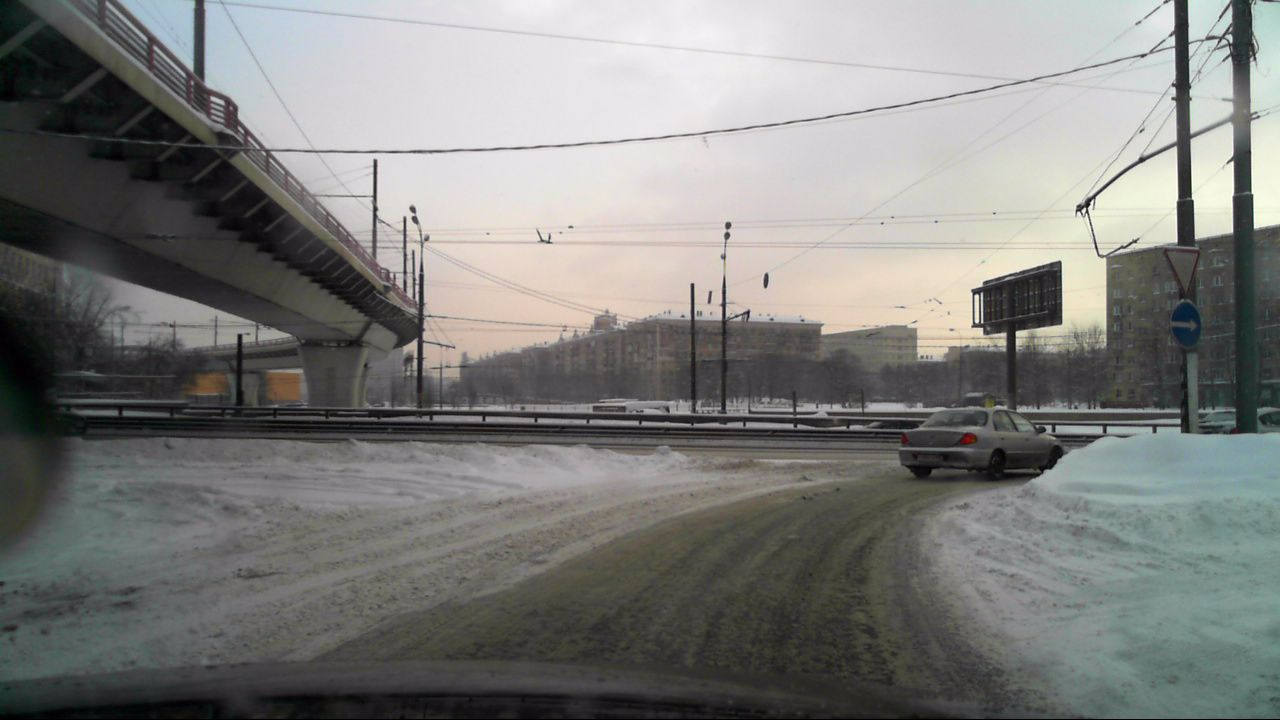Turn Right: (1171, 299, 1202, 348)
